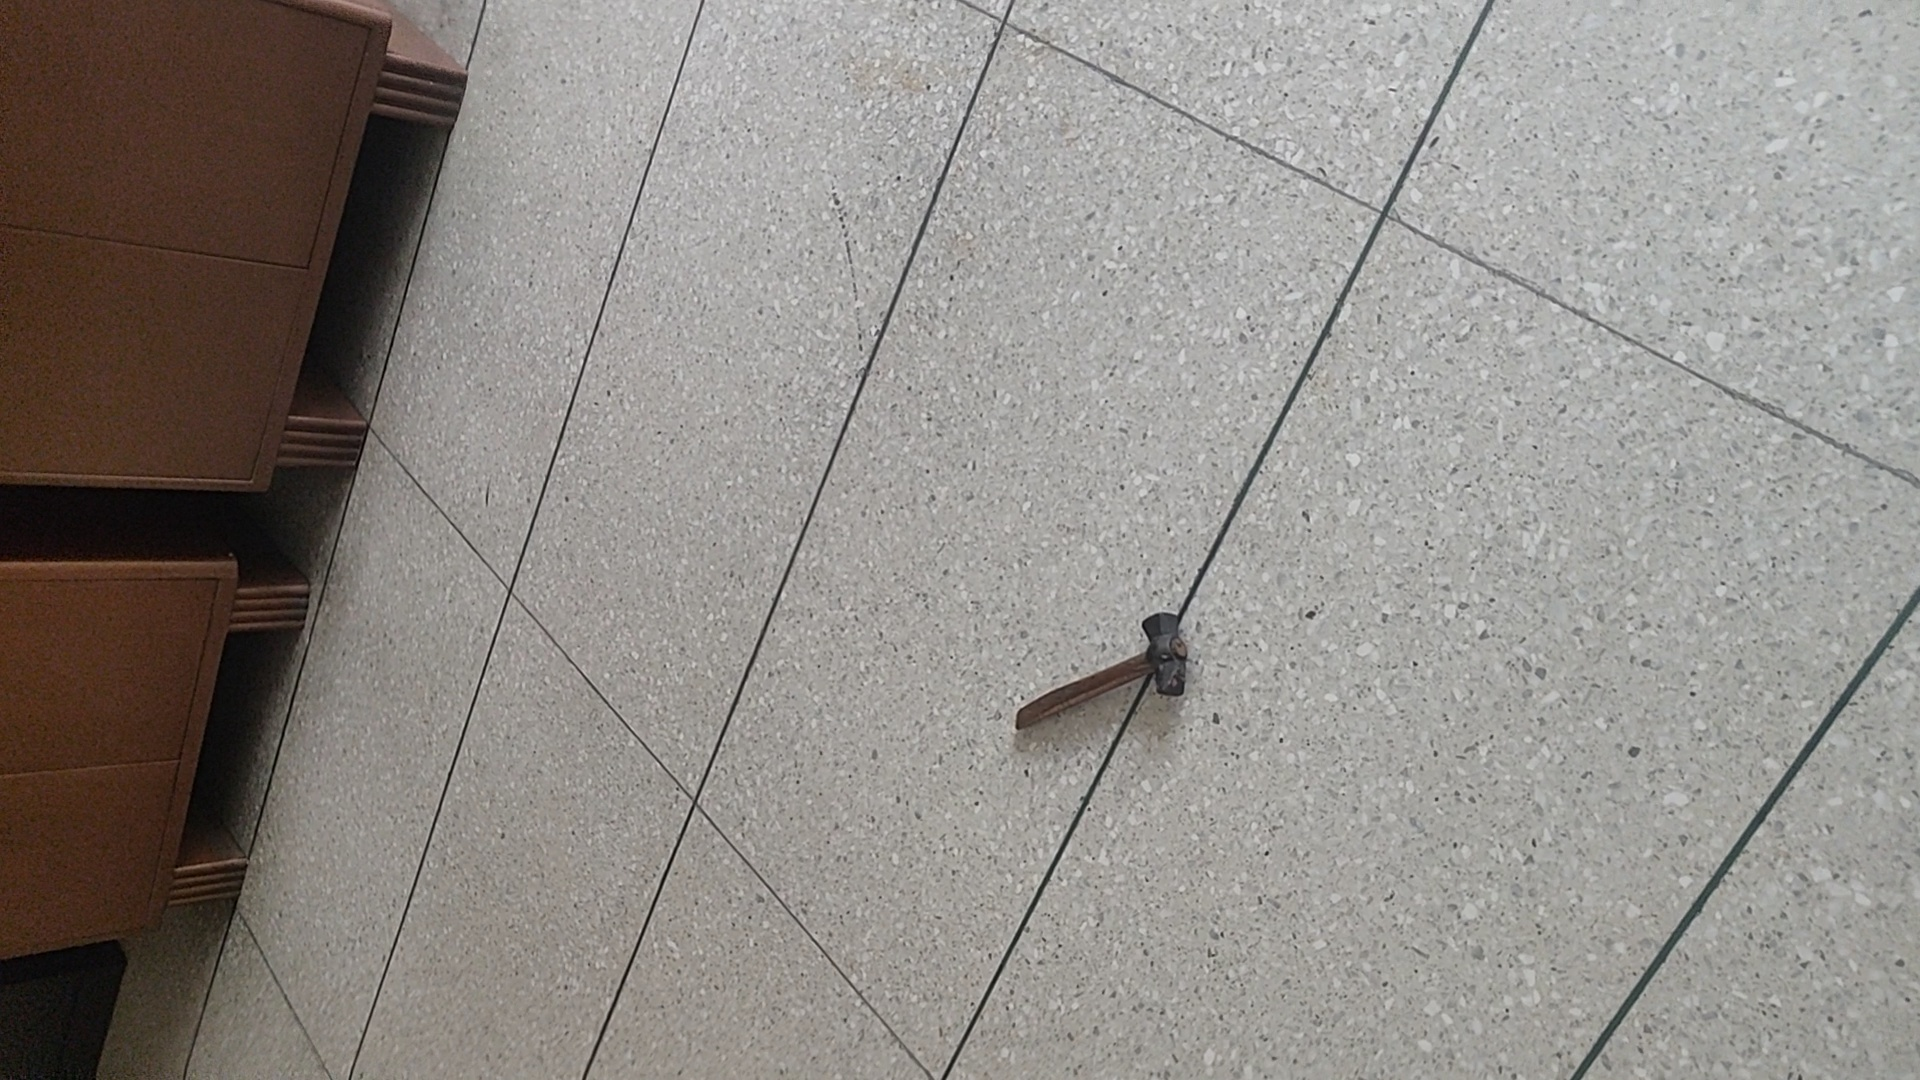hammer: (1013, 607, 1193, 745)
